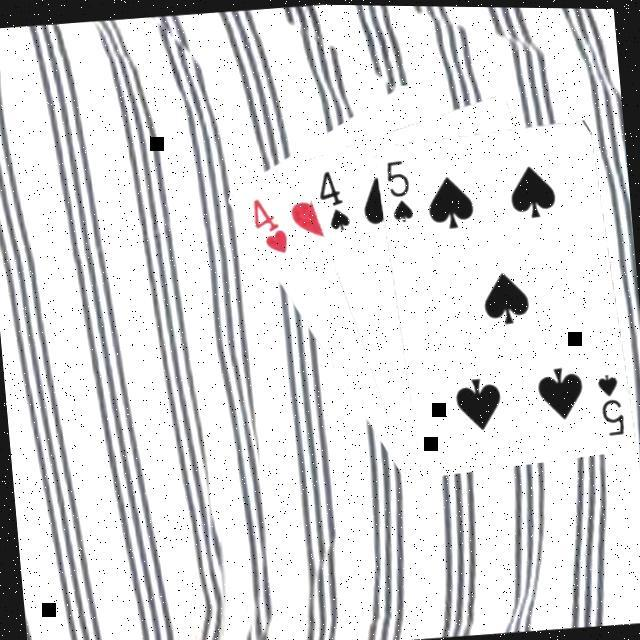4H: (246, 191, 290, 259)
4S: (310, 164, 352, 235)
5S: (590, 368, 626, 438), (380, 155, 414, 225)
